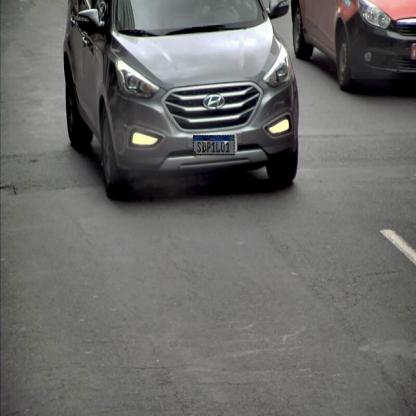PlacaM: (193, 135, 234, 156)
